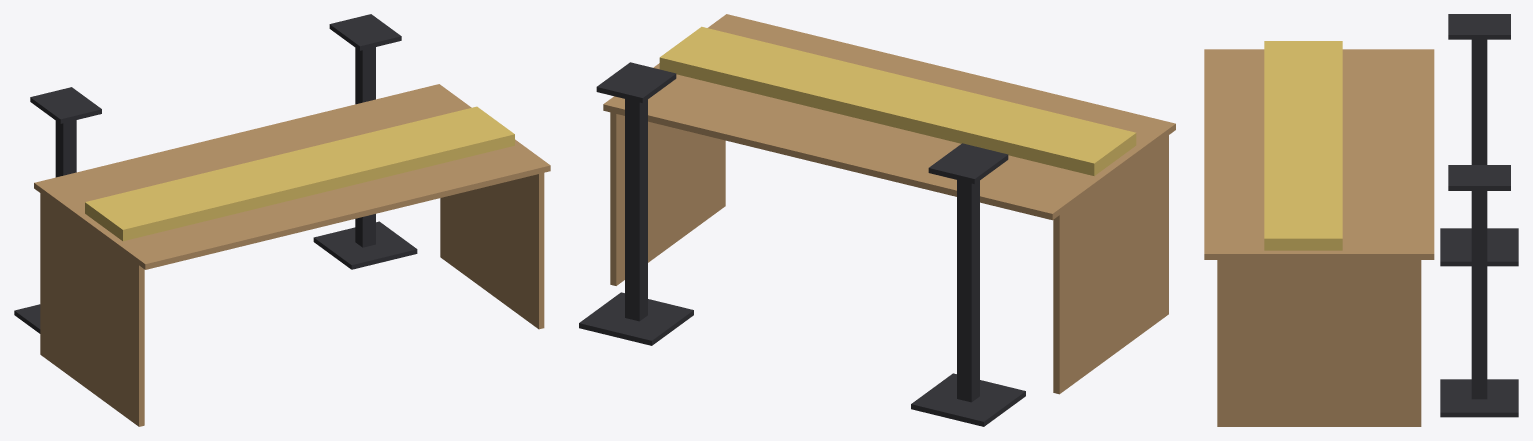
Rendered from Mesa_con_lana.dae.
The picture shows the model from 3 angles, left to right: view 1: azimuth 30°, elevation 25°; view 2: azimuth 150°, elevation 25°; view 3: azimuth 270°, elevation 25°; orthographic projection. The views are drawn at different scales.
Parts seen in each view (by area): view 1: Tablero, Absorbente de la mesa, Lateral izquierdo, Lateral derecho, Pie KH derecho, Pie KH izquierdo; view 2: Tablero, Absorbente de la mesa, Lateral izquierdo, Lateral derecho, Pie KH derecho, Pie KH izquierdo; view 3: Lateral derecho, Tablero, Absorbente de la mesa, Pie KH derecho, Pie KH izquierdo.
Boxes of the visible parts, bbox=[...] form: Tablero: bbox=[34, 84, 550, 269]; Absorbente de la mesa: bbox=[85, 106, 514, 241]; Lateral izquierdo: bbox=[40, 193, 144, 426]; Lateral derecho: bbox=[440, 173, 544, 329]; Pie KH derecho: bbox=[313, 14, 417, 269]; Pie KH izquierdo: bbox=[14, 87, 101, 333]; Tablero: bbox=[603, 14, 1175, 220]; Absorbente de la mesa: bbox=[659, 26, 1136, 175]; Lateral izquierdo: bbox=[1053, 135, 1168, 394]; Lateral derecho: bbox=[610, 112, 725, 285]; Pie KH derecho: bbox=[579, 62, 693, 345]; Pie KH izquierdo: bbox=[911, 143, 1025, 426]; Lateral derecho: bbox=[1217, 260, 1421, 426]; Tablero: bbox=[1204, 49, 1434, 259]; Absorbente de la mesa: bbox=[1264, 41, 1342, 250]; Pie KH derecho: bbox=[1440, 165, 1518, 417]; Pie KH izquierdo: bbox=[1440, 14, 1518, 266].
Size of the model in its own units: 72.83 by 47.36 by 37.4.
